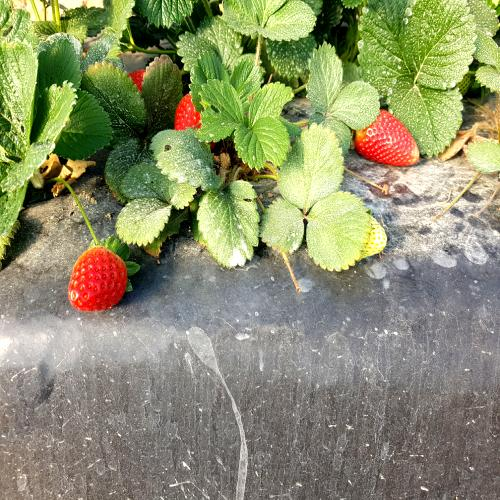ripe: (63, 236, 134, 327), (351, 100, 427, 177)
